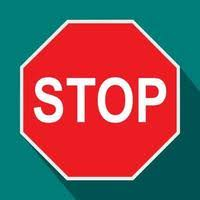stop sign: (19, 19, 181, 181)
